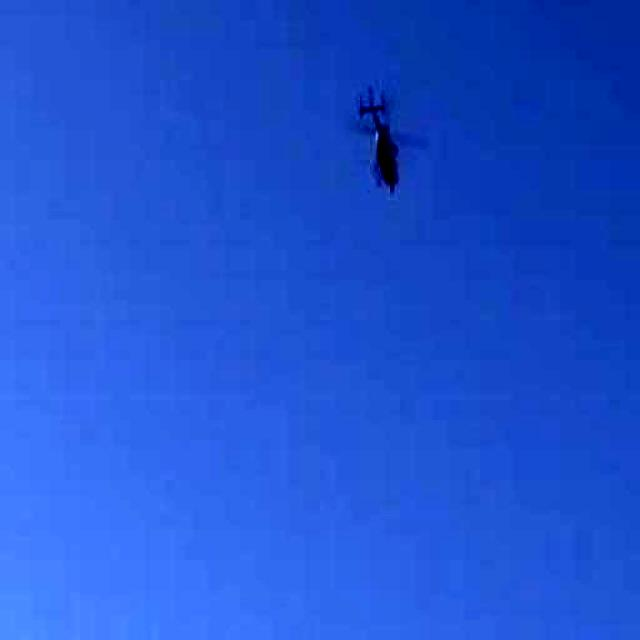drone: (331, 69, 438, 219)
